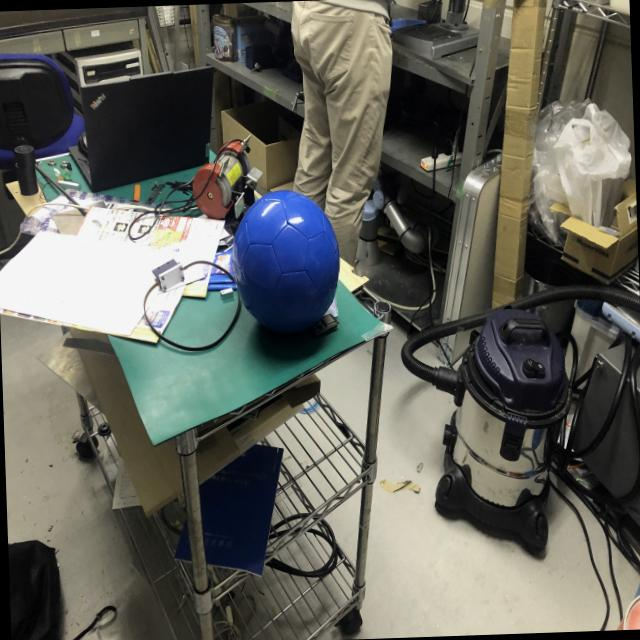blue_ball: (230, 192, 340, 337)
